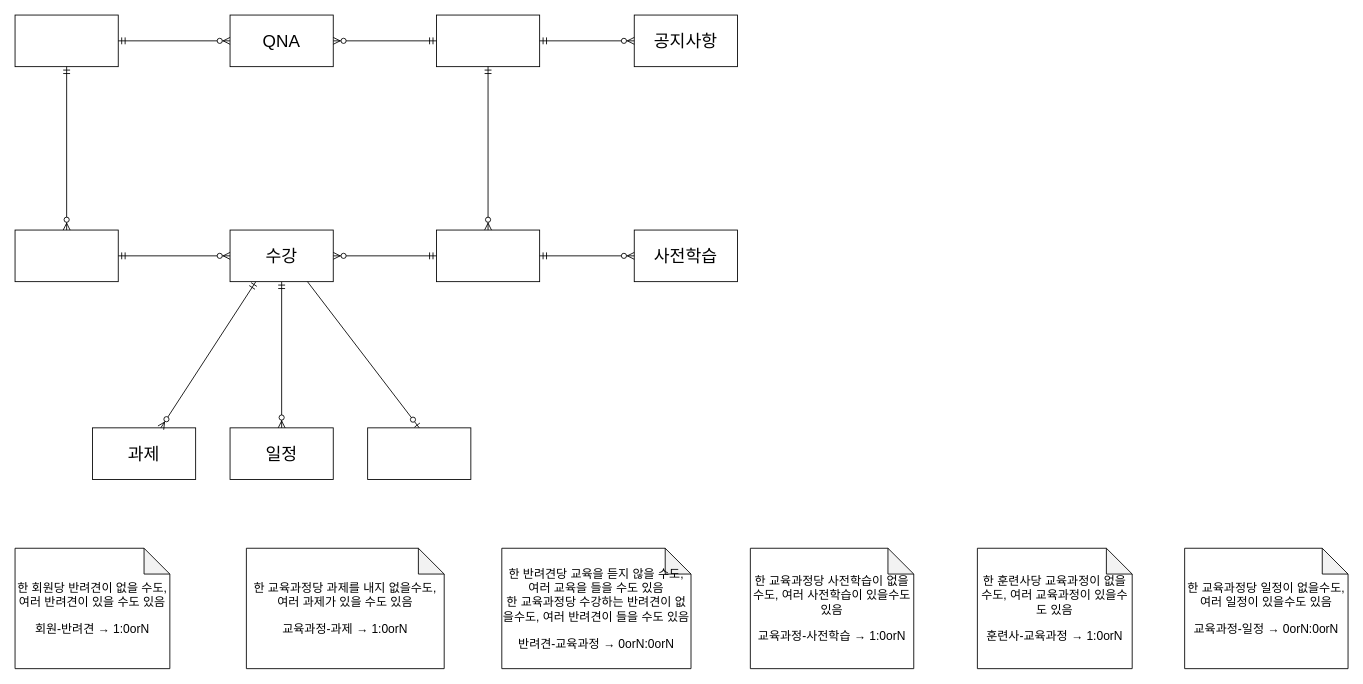
Some shapes in this 1363 by 684 pixel diagram are drawn without their labels. Each missing label, with the centre of its shape:
"교육과정" goes at (x=488, y=255).
"반려견" goes at (x=66, y=255).
"회원" goes at (x=66, y=40).
"후기" goes at (x=419, y=453).
"훈련사" goes at (x=488, y=40).
